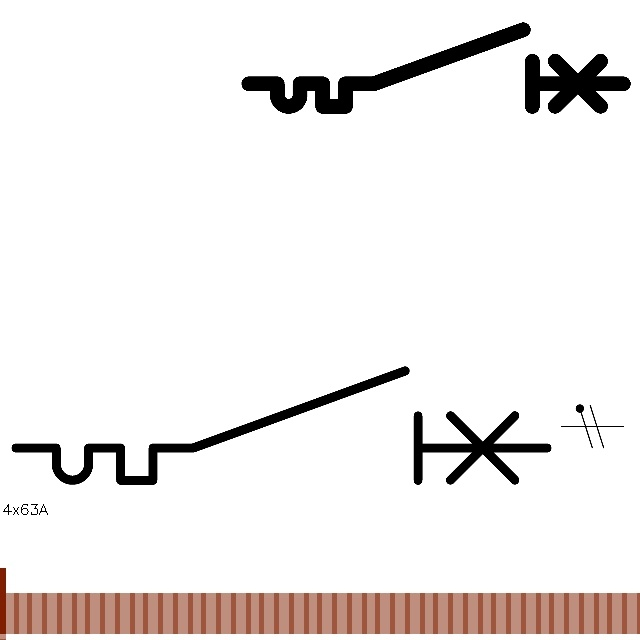interruptor_termomagnetico: (2, 357, 561, 494), (239, 20, 633, 116)
